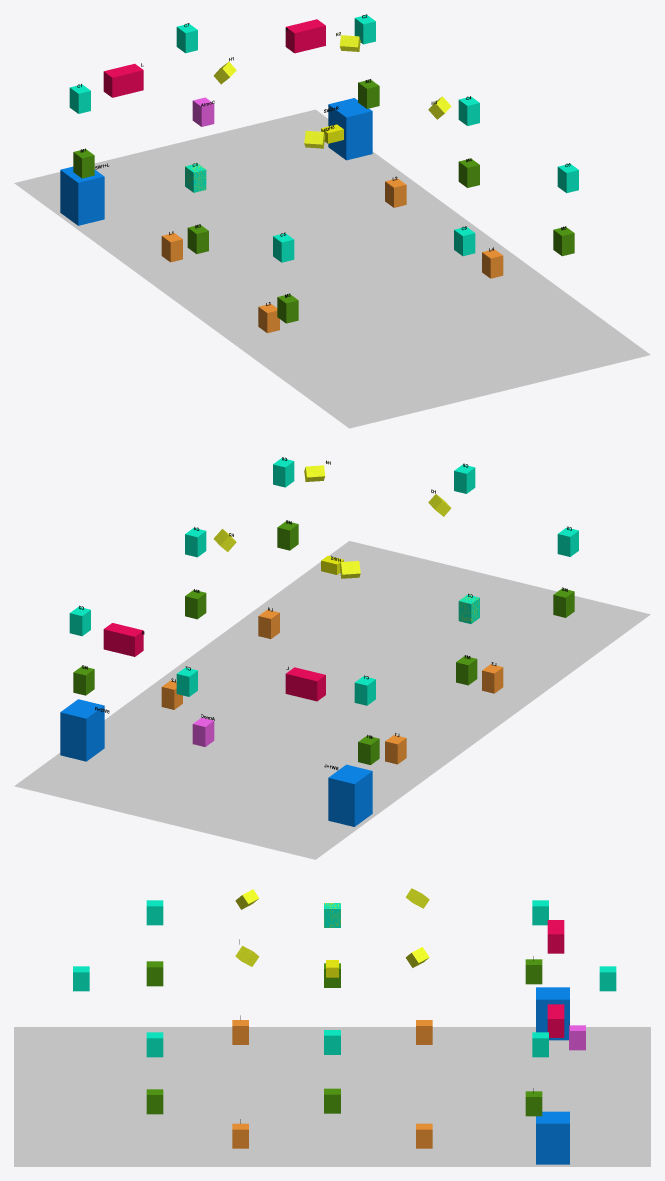
Rendered from Studio-grame-sept2026.dae.
3 renders of one model, top to bottom at view 1: azimuth 30°, elevation 25°; view 2: azimuth 150°, elevation 25°; view 3: azimuth 270°, elevation 25°, orthographic. The views are drawn at different scales.
Parts seen in each view (by area): view 1: SketchUp (×3), group_42, group_43; view 2: SketchUp (×3), group_42, group_43, group_33; view 3: SketchUp (×3), group_43, group_42, group_34, group_39, group_40, group_48, group_50, group_51, group_53, group_33, group_36 (+9 smaller).
Part boxes in pixels (x1,y1,x2,y2): SketchUp (×3): (14, 19, 650, 428); group_42: (60, 166, 104, 225); group_43: (328, 98, 372, 160); SketchUp (×3): (14, 541, 650, 859); group_42: (328, 764, 372, 826); group_43: (60, 699, 104, 761); group_33: (192, 717, 214, 746); SketchUp (×3): (14, 920, 650, 1166); group_43: (536, 1111, 569, 1164); group_42: (536, 987, 569, 1040); group_34: (146, 1032, 163, 1057); group_39: (146, 900, 163, 925); group_40: (599, 966, 616, 991); group_48: (146, 1089, 163, 1114); group_50: (525, 1091, 542, 1116); group_51: (525, 959, 542, 984); group_53: (146, 961, 163, 986); group_33: (569, 1025, 585, 1050); group_36: (532, 1032, 548, 1057).
Size of the model in its own units: 213 by 409 by 128.
